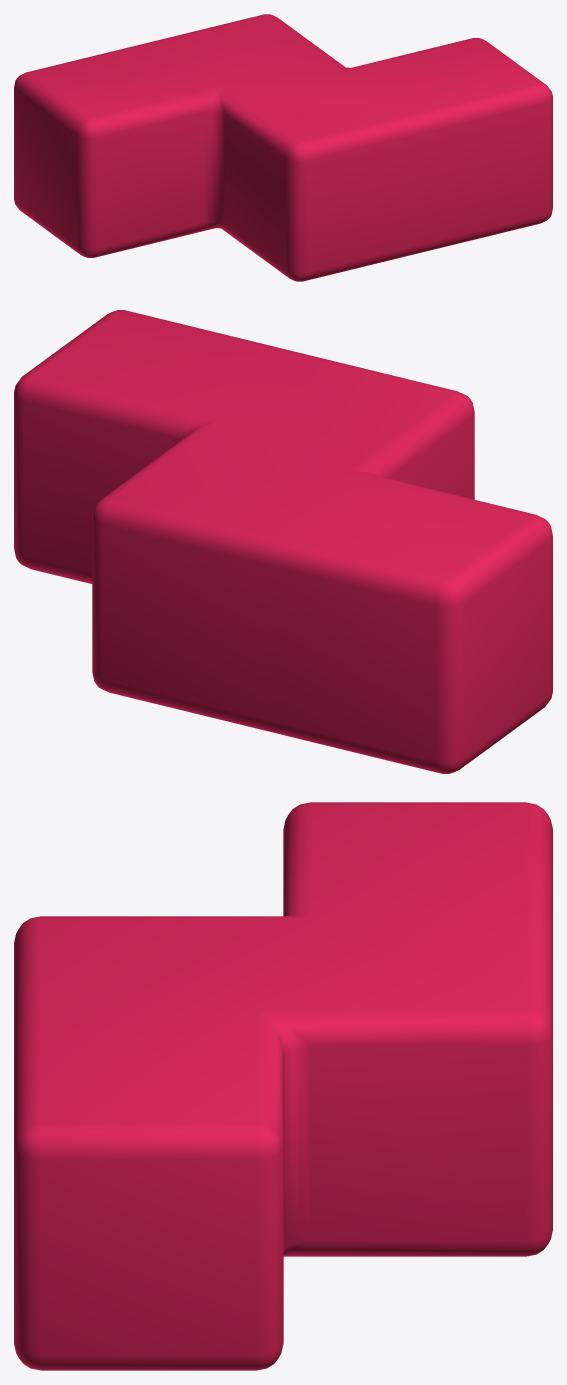
The model's file is z_left_block.glb.
3 renders of one model, top to bottom at view 1: azimuth 30°, elevation 25°; view 2: azimuth 150°, elevation 25°; view 3: azimuth 270°, elevation 25°, orthographic. The views are drawn at different scales.
Parts seen in each view (by area): view 1: Cube; view 2: Cube; view 3: Cube.
Boxes of the visible parts, x1,y1,x2,y2 form: Cube: (14, 14, 552, 281); Cube: (14, 310, 552, 773); Cube: (14, 802, 552, 1370).
Bounding box in the file's own units: 3 × 1 × 2.
